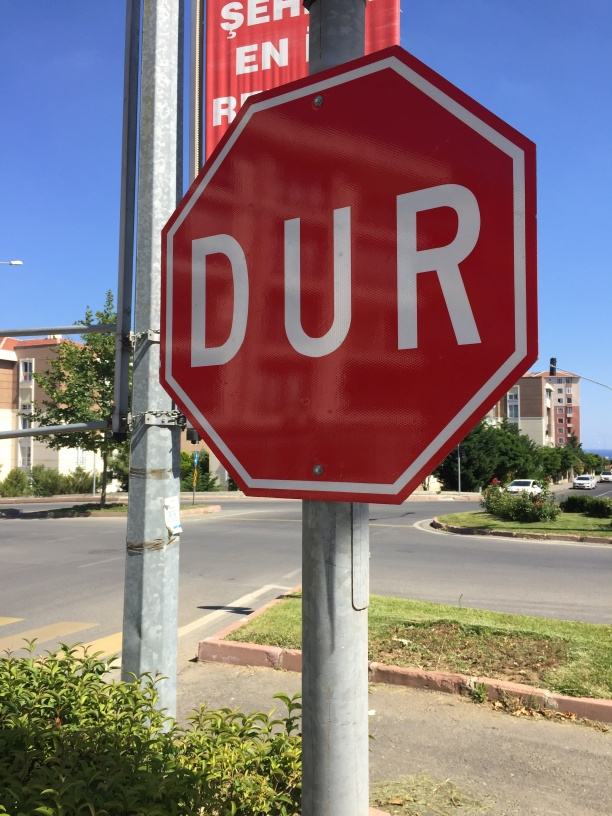arac_dur_isareti: (137, 46, 575, 621)
